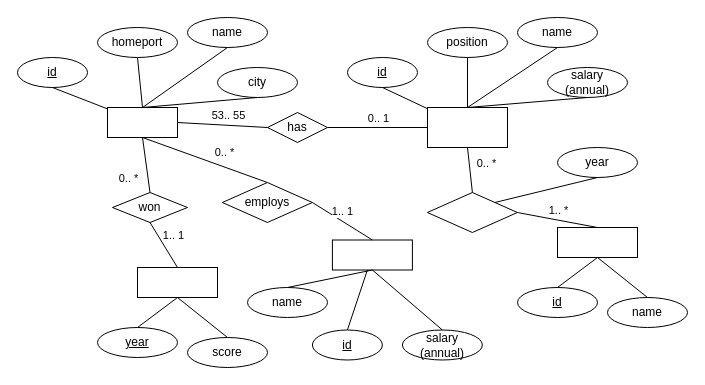
Image size: 705x385. Some labels were removed from this diagram. The shapes that lost their labels are listed below. From the top down, each one's centre as x and y in pixels, then its label:
At (x=142, y=122): "team".
At (x=467, y=127): "player".
At (x=471, y=212): "receives".
At (x=371, y=254): "staff member".
At (x=597, y=242): "award".
At (x=177, y=282): "championship".
